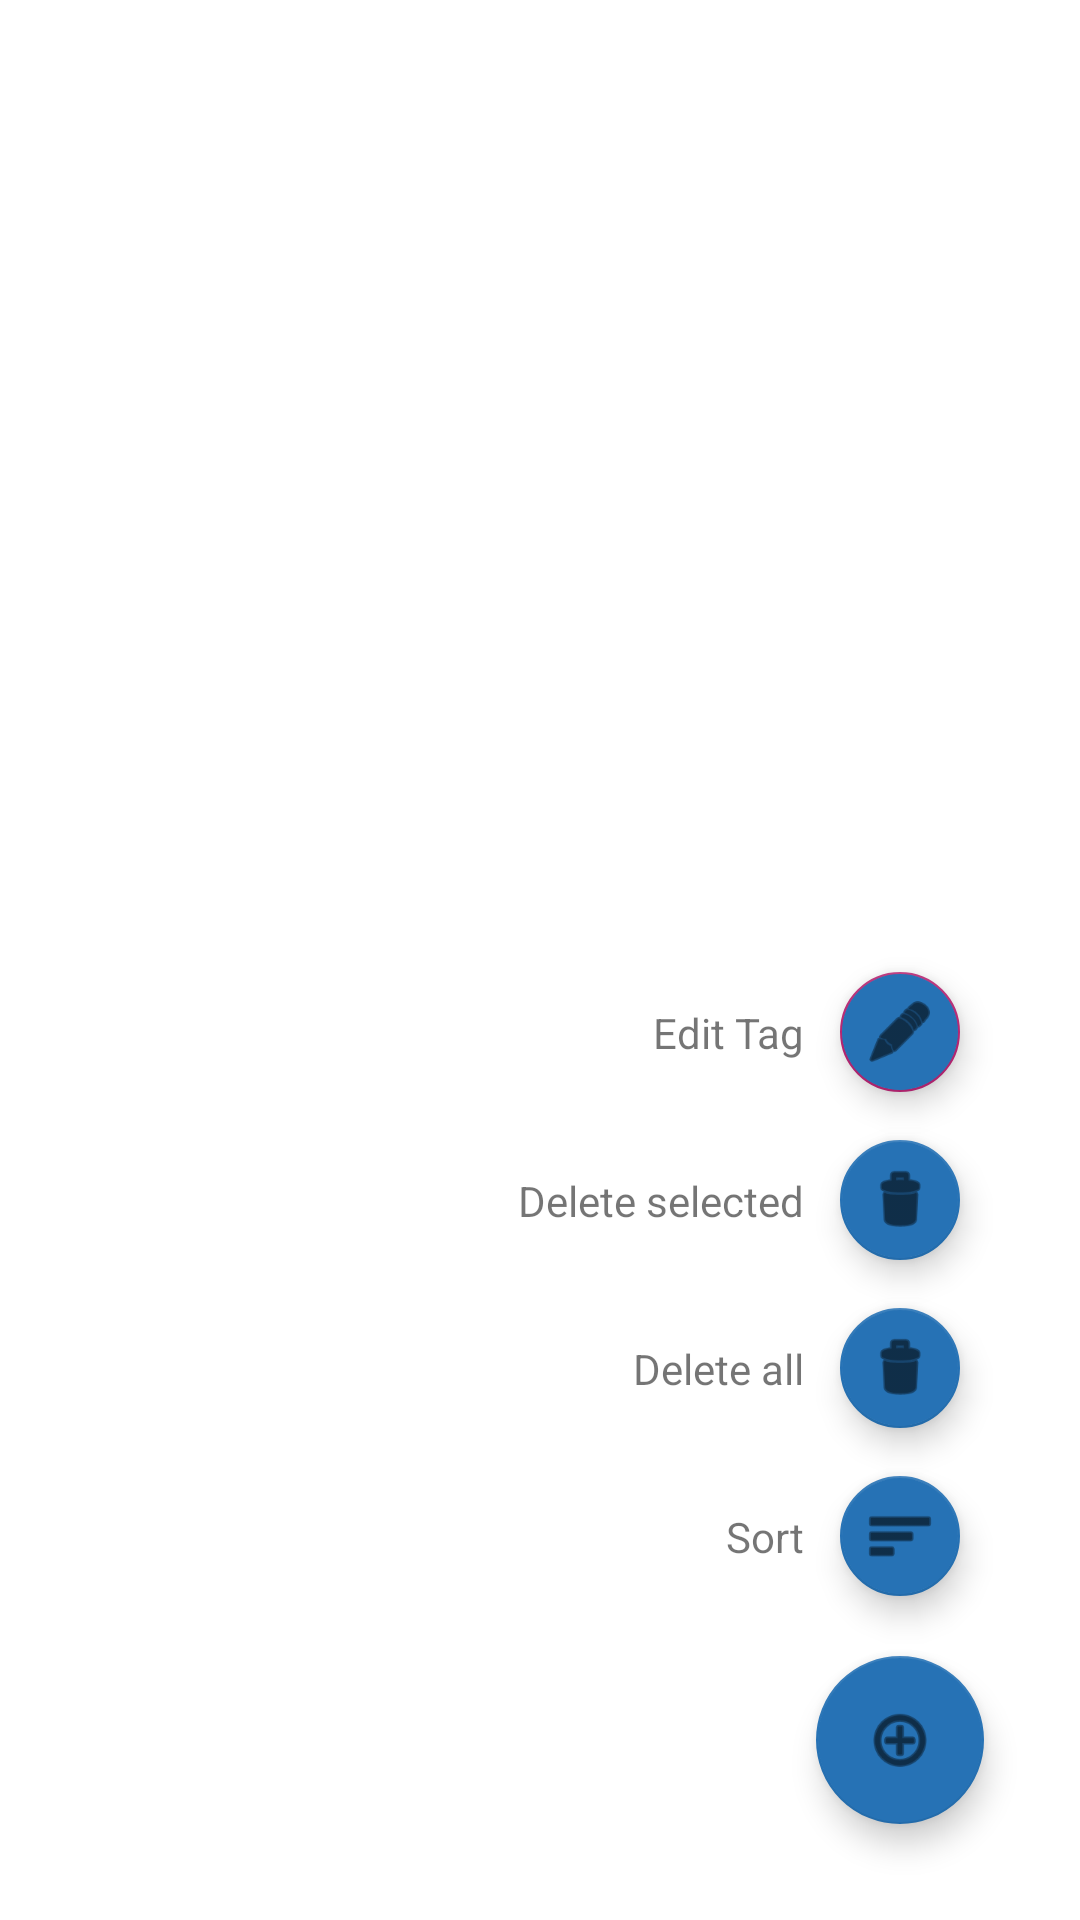

Screen size 1080x1920. Icon name, then its center in pixels as (x,y):
Delete the entry: (901,1204)
Edit the tag on the entry: (901,1035)
Open more options: (900,1740)
